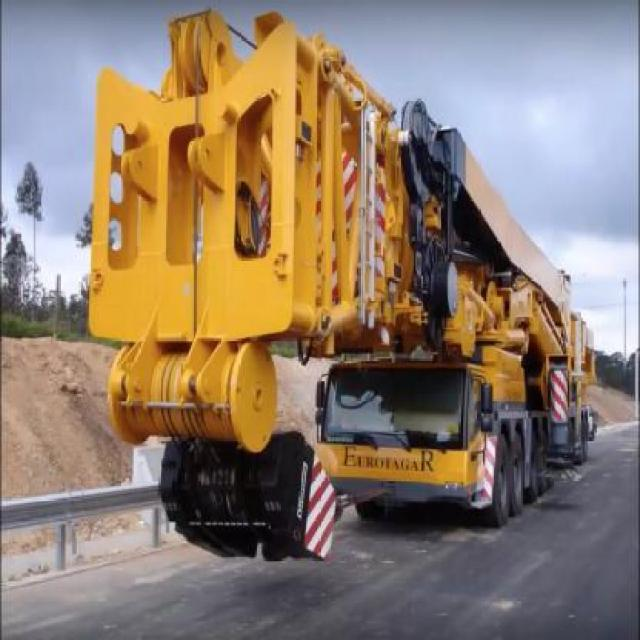Mobile Crane: (89, 10, 593, 556)
